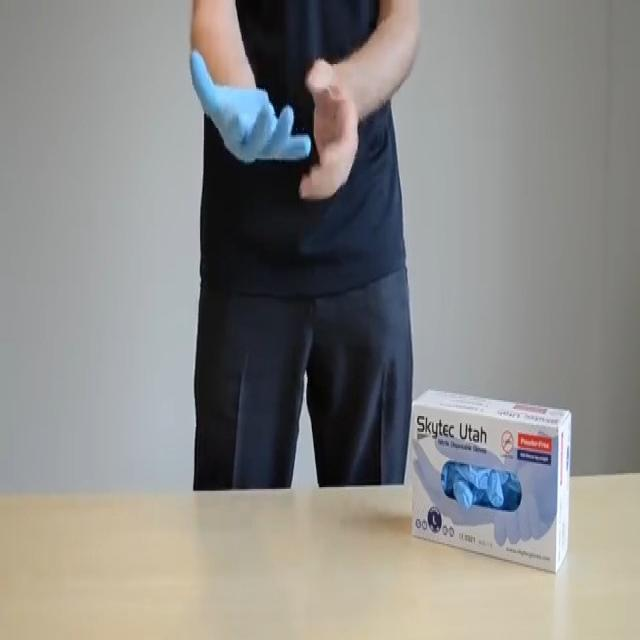Gloves: (184, 45, 316, 183)
